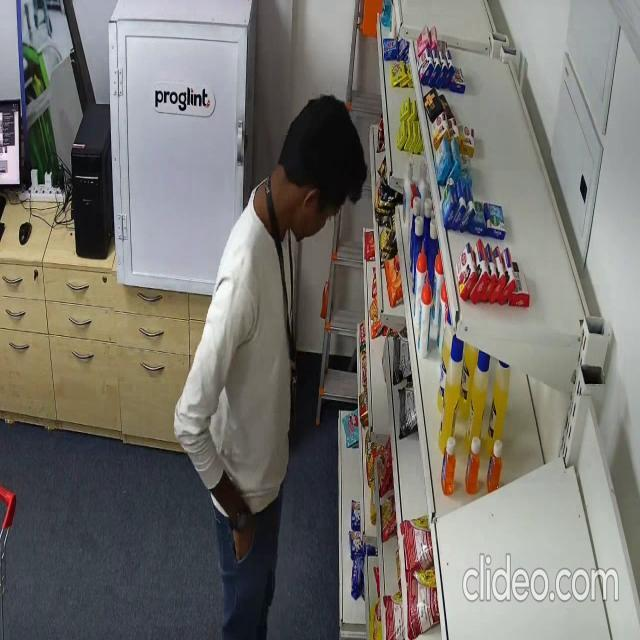Shoplifting: (172, 92, 368, 640)
